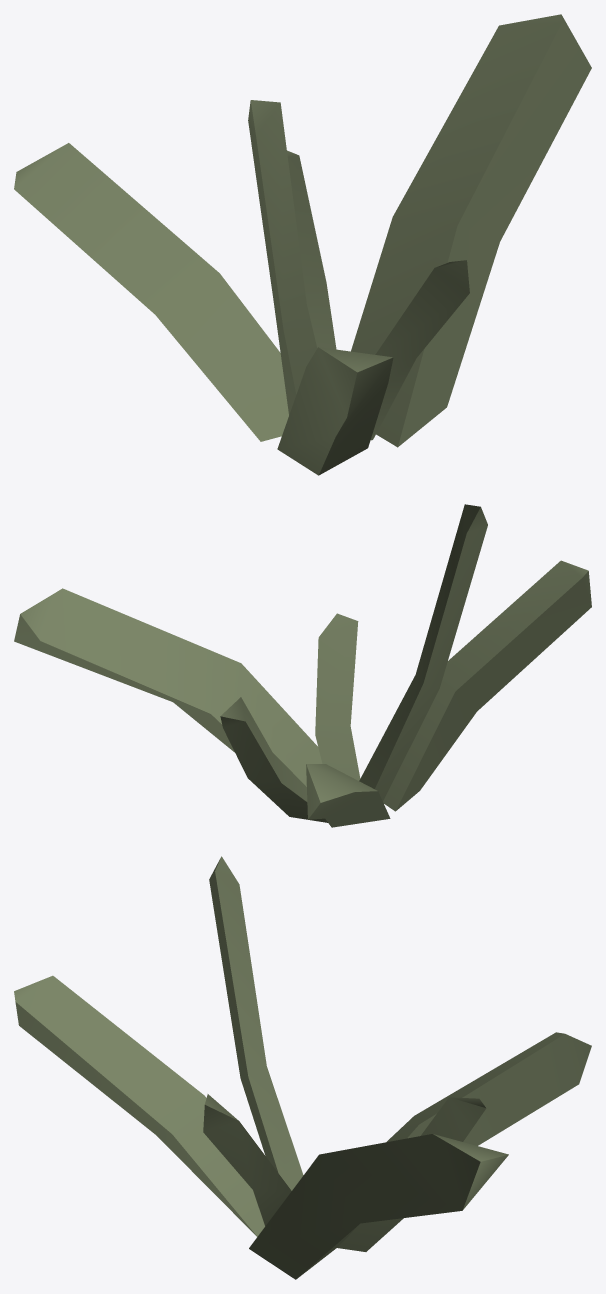
The model's file is P_grass_02_LD.fbx.
3 renders of one model, top to bottom at view 1: azimuth 30°, elevation 25°; view 2: azimuth 150°, elevation 25°; view 3: azimuth 270°, elevation 25°, orthographic. The views are drawn at different scales.
Visible parts, largest first — view 1: P_grass_02; view 2: P_grass_02; view 3: P_grass_02.
Boxes of the visible parts, x1,y1,x2,y2 form: P_grass_02: [14, 14, 591, 475]; P_grass_02: [14, 504, 591, 827]; P_grass_02: [14, 856, 591, 1279].
Size of the model in its own units: 41.14 by 29.99 by 48.01.
Materials: 1 (1 with a texture image).
